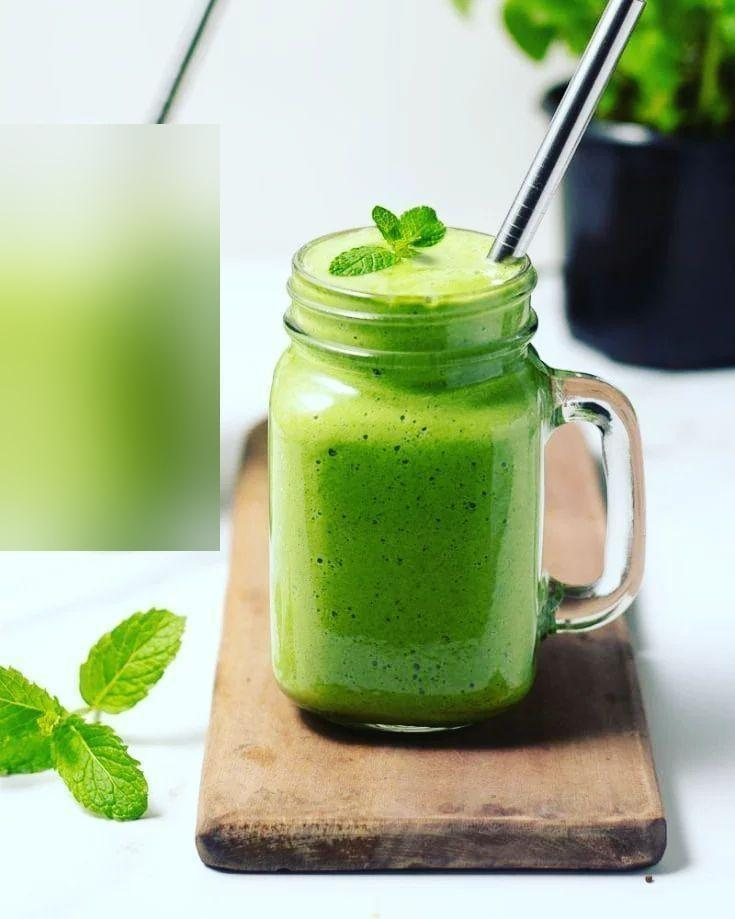glass-mug: (273, 212, 656, 755)
